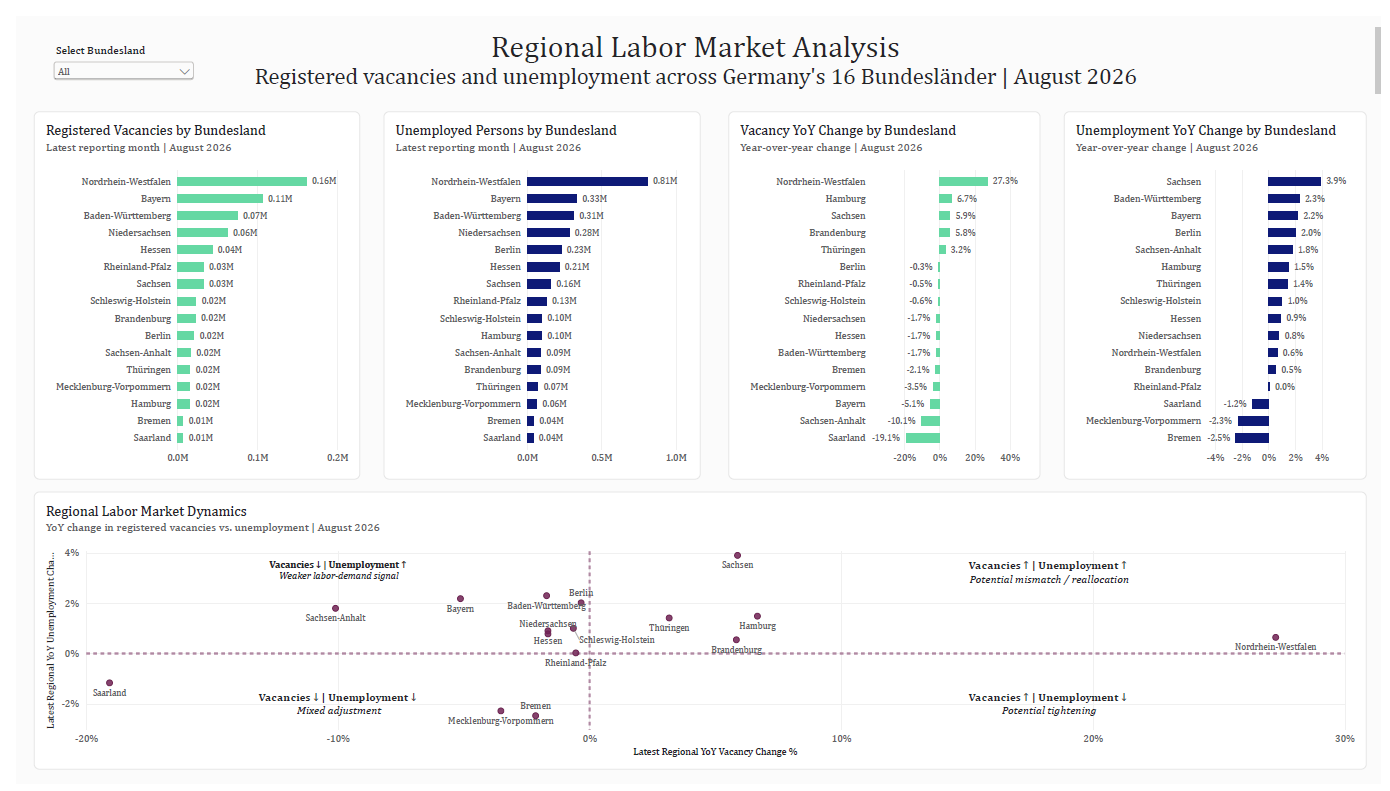

This screenshot's page, from the dashboard's own definition file:
{"tool":"powerbi","page":{"name":"Regional Analysis","canvas":[1920,1080],"ordinal":1},"visuals":[{"type":"clusteredBarChart","title":"Registered Vacancies by Bundesland","fields":{"Category":["DimRegion.Region"],"Y":["Fact_Vacancies_Regions.Latest Regional Registered Vacancies"]},"box":[24.7,133.8,459,518.7],"z":0},{"type":"clusteredBarChart","title":"Unemployed Persons by Bundesland","fields":{"Category":["DimRegion.Region"],"Y":["Fact_Unemployment_Regions.Latest Regional Unemployed Persons"]},"box":[516.6,133.8,446.7,518.7],"z":1000},{"type":"clusteredBarChart","title":"Vacancy YoY Change by Bundesland","fields":{"Category":["DimRegion.Region"],"Y":["Fact_Vacancies_Regions.Latest Regional YoY Vacancy Change %"]},"box":[1002.4,133.8,438.4,518.7],"z":2000},{"type":"scatterChart","title":"Regional Labor Market Dynamics","fields":{"Category":["DimRegion.Region"],"X":["Fact_Vacancies_Regions.Latest Regional YoY Vacancy Change %"],"Y":["Fact_Unemployment_Regions.Latest Regional YoY Unemployment Change %"]},"box":[24.7,669,1875.1,391.1],"z":3000},{"type":"clusteredBarChart","title":"Unemployment YoY Change by Bundesland","fields":{"Category":["DimRegion.Region"],"Y":["Fact_Unemployment_Regions.Latest Regional YoY Unemployment Change %"]},"box":[1473.8,133.8,426.1,518.7],"z":4000},{"type":"textbox","box":[0,16.5,1920.4,105],"z":5000},{"type":"textbox","box":[1287.5,762.5,327.5,42.5],"z":6000},{"type":"textbox","box":[335,762.5,235,42.5],"z":7000},{"type":"textbox","box":[1287.5,947.5,327.5,55],"z":8000},{"type":"textbox","box":[335,947.5,235,55],"z":9000},{"type":"slicer","fields":{"Values":["DimRegion.Region"]},"box":[47.5,37.5,207.5,67.5],"z":10000}]}

Visuals, with their boxes in screenshot pixels (x1, y1, x2, y2), scaled from the page's 1920x1080 canvas onto the 1390x791 screenshot:
"Registered Vacancies by Bundesland" clusteredBarChart: crop(18, 98, 350, 478)
"Unemployed Persons by Bundesland" clusteredBarChart: crop(374, 98, 697, 478)
"Vacancy YoY Change by Bundesland" clusteredBarChart: crop(726, 98, 1043, 478)
"Regional Labor Market Dynamics" scatterChart: crop(18, 490, 1375, 776)
"Unemployment YoY Change by Bundesland" clusteredBarChart: crop(1067, 98, 1375, 478)
textbox: crop(0, 12, 1389, 89)
textbox: crop(932, 558, 1169, 590)
textbox: crop(243, 558, 413, 590)
textbox: crop(932, 694, 1169, 734)
textbox: crop(243, 694, 413, 734)
slicer - DimRegion.Region: crop(34, 27, 185, 77)
